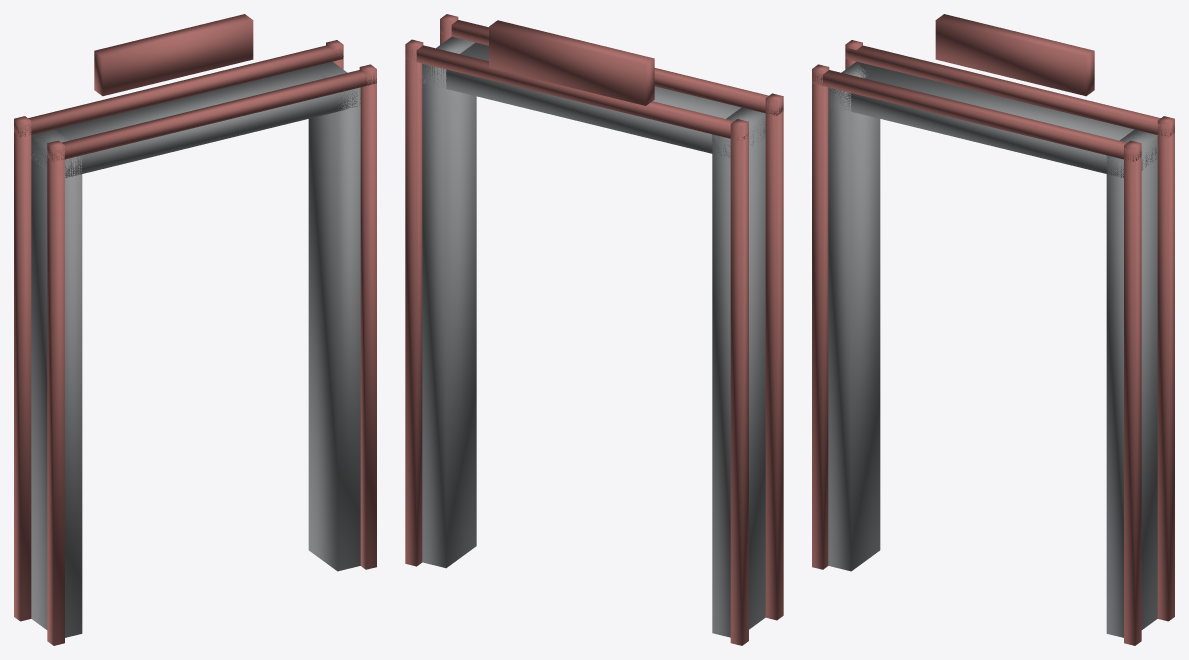
File: doorway_emergency_exit_w122_h210_d24.glb
The picture shows the model from 3 angles, left to right: view 1: azimuth 30°, elevation 25°; view 2: azimuth 150°, elevation 25°; view 3: azimuth 330°, elevation 25°; orthographic projection. The views are drawn at different scales.
Visible parts, largest first — view 1: world; view 2: world; view 3: world.
Part boxes in pixels (x1,y1,x2,y2): world: [14, 14, 376, 645]; world: [405, 14, 783, 645]; world: [812, 14, 1174, 645].
Bounding box in the file's own units: 1.55 × 2.47 × 0.3798.
